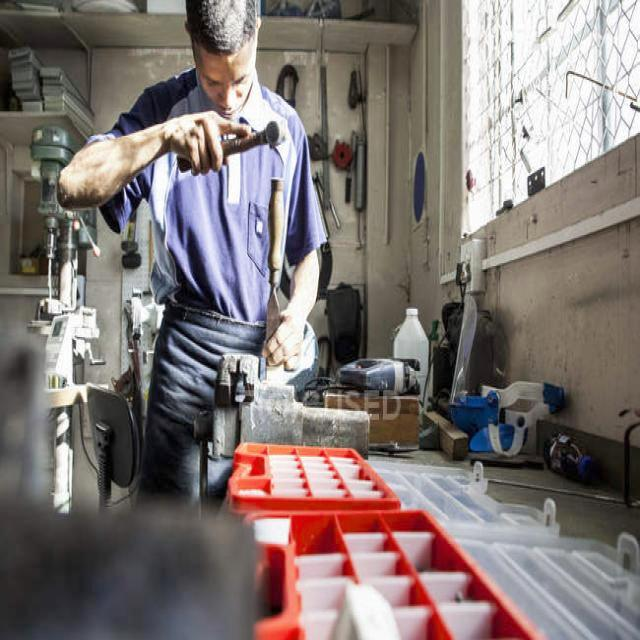hammer: (162, 113, 296, 181)
